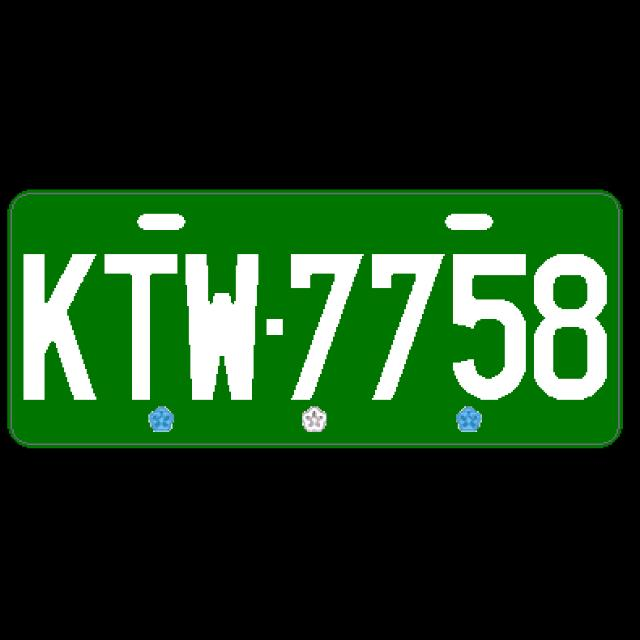plate: (5, 186, 627, 452)
